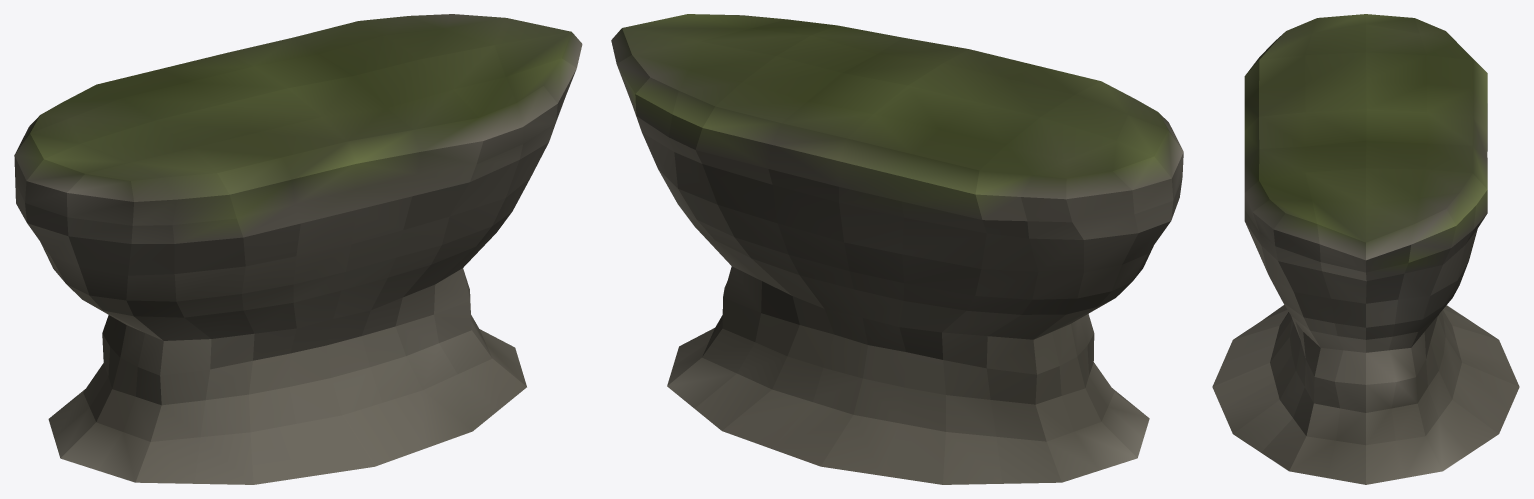
File: Rocks01.fbx
The picture shows the model from 3 angles, left to right: view 1: azimuth 30°, elevation 25°; view 2: azimuth 150°, elevation 25°; view 3: azimuth 270°, elevation 25°; orthographic projection. The views are drawn at different scales.
Visible parts, largest first — view 1: Rocks01_LOD0; view 2: Rocks01_LOD0; view 3: Rocks01_LOD0.
Boxes of the visible parts, box(x1,y1,x2,y2) form: Rocks01_LOD0: box(14, 14, 582, 484); Rocks01_LOD0: box(611, 14, 1183, 484); Rocks01_LOD0: box(1212, 14, 1519, 484).
Size of what is drawn, in the model's own units: 468 by 253 by 253.
